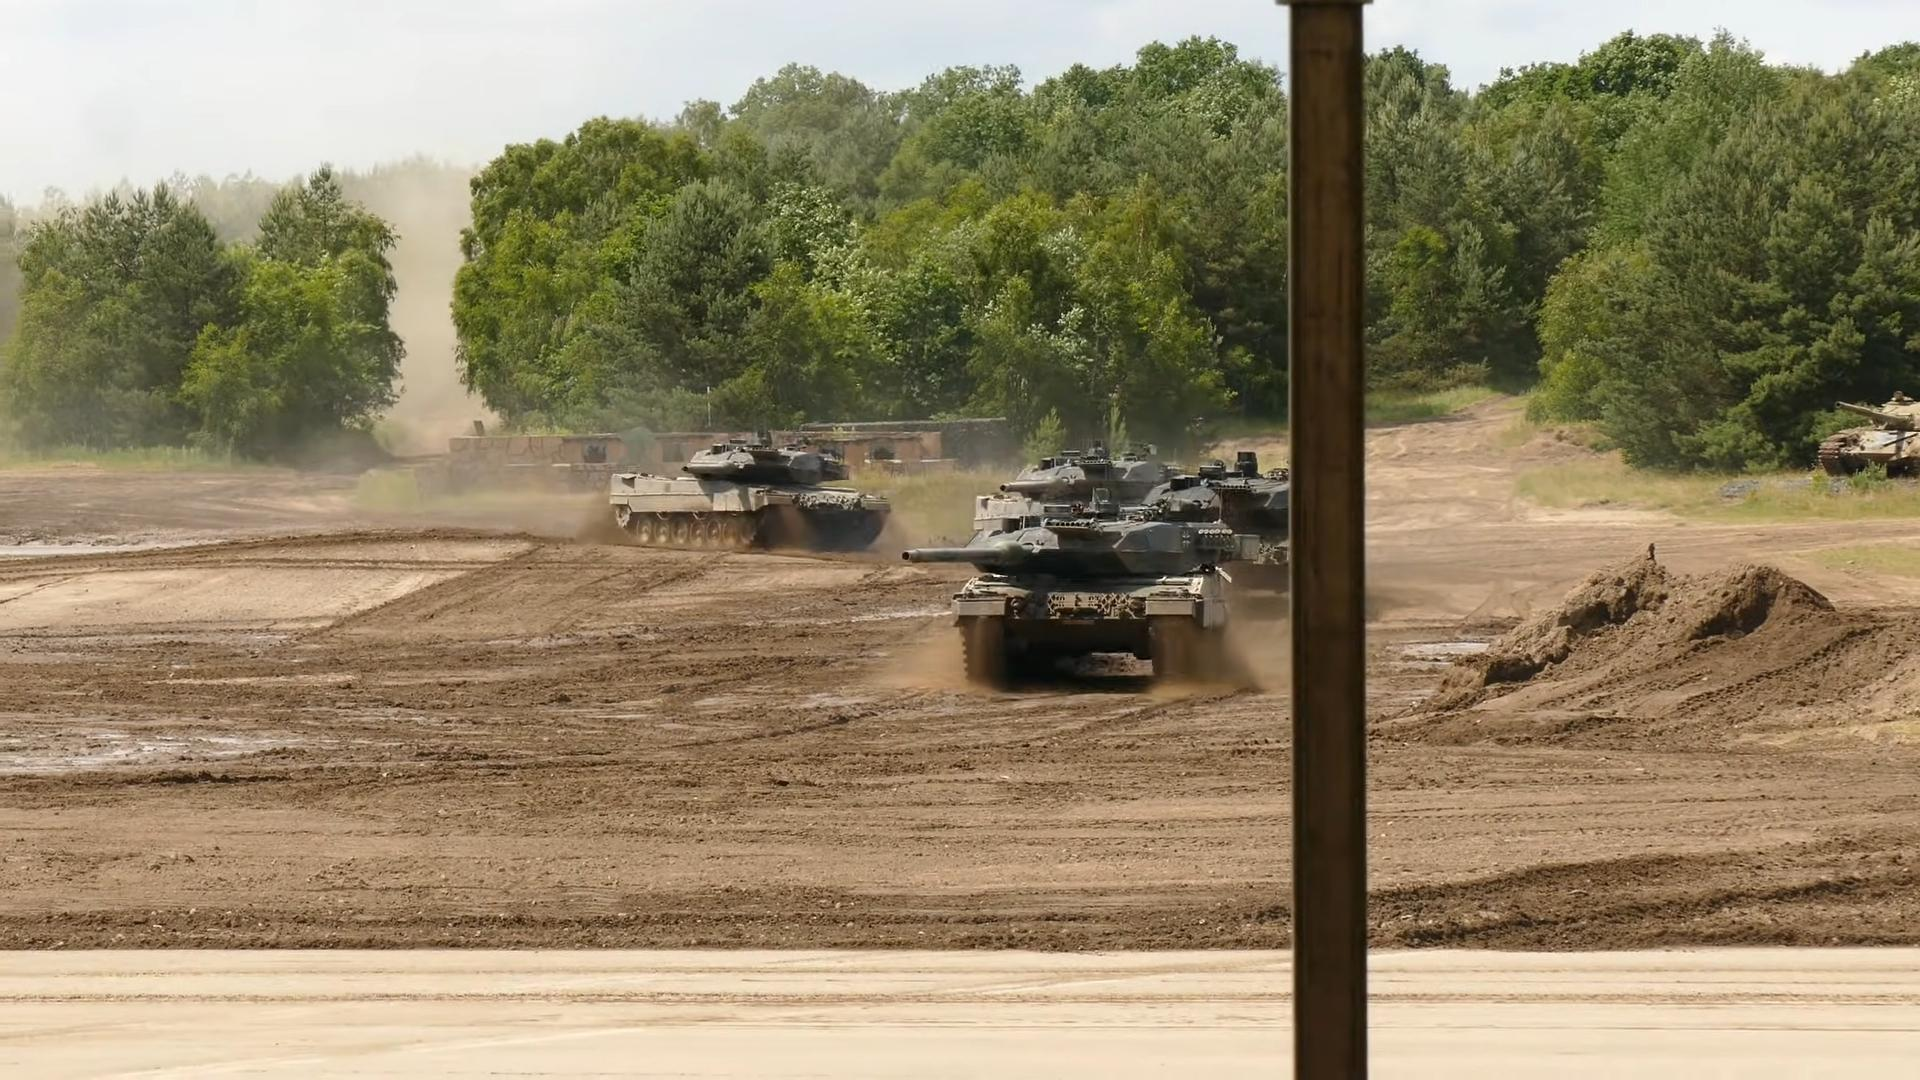tank: (901, 472, 1235, 685), (609, 429, 893, 550), (974, 441, 1182, 537), (1198, 451, 1290, 594), (1819, 390, 1919, 478)
